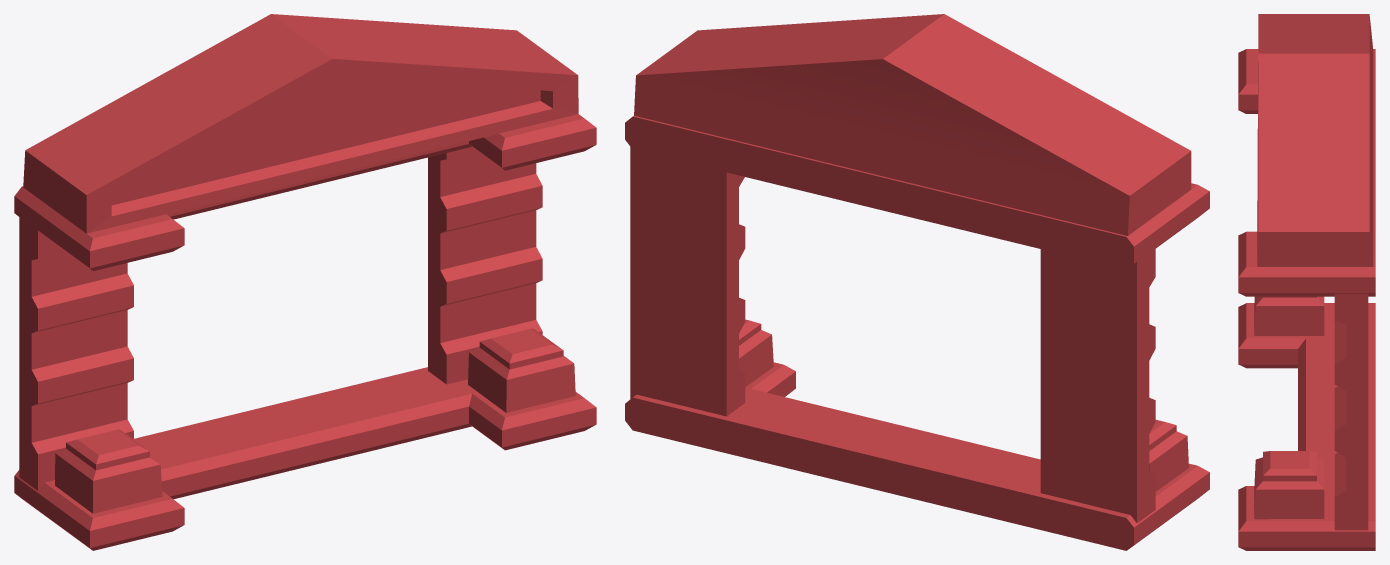
Rendered from luomadoor_02.fbx.
3 views of the same model, side by side, from view 1: azimuth 30°, elevation 25°; view 2: azimuth 150°, elevation 25°; view 3: azimuth 270°, elevation 25° (orthographic). The views are drawn at different scales.
Parts seen in each view (by area): view 1: luomadoor_02; view 2: luomadoor_02; view 3: luomadoor_02.
Boxes of the visible parts, x1,y1,x2,y2 form: luomadoor_02: (14,14,596,550); luomadoor_02: (625,14,1209,550); luomadoor_02: (1238,14,1375,550).
Size of the model in its own units: 531 by 428 by 137.
